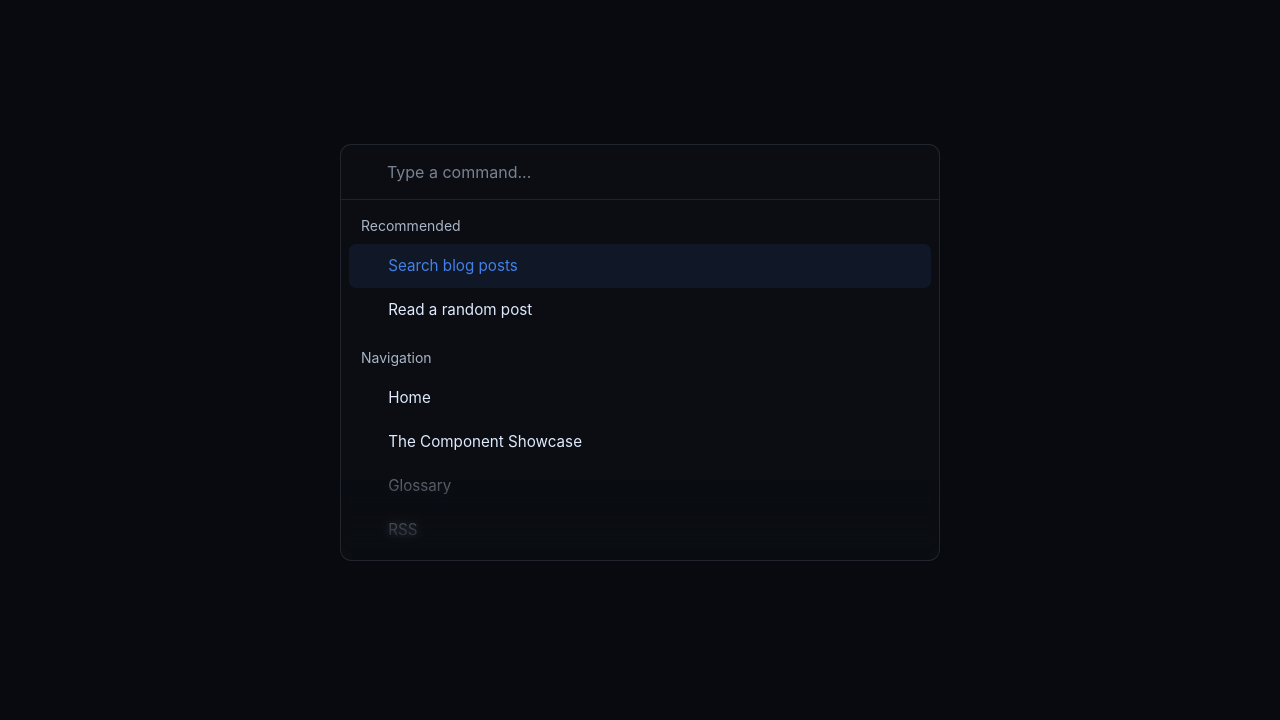
it: CommandPalette › matches on keywords as well as labels
In the dropdown: (654, 172) [387,160,921,184], type "donate"
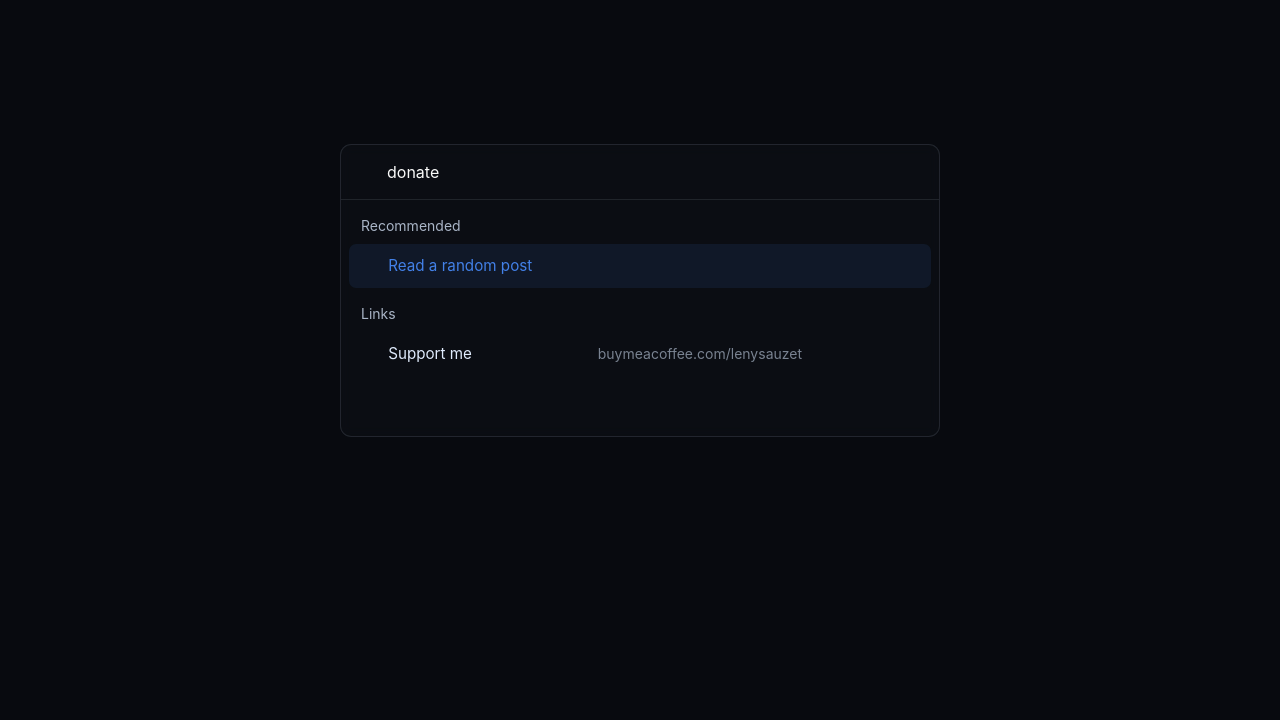
Now the option "Support me buymeacoffee.com/lenysauzet" is shown, box [388,344,802,363]
Now the option "Home" is gone
